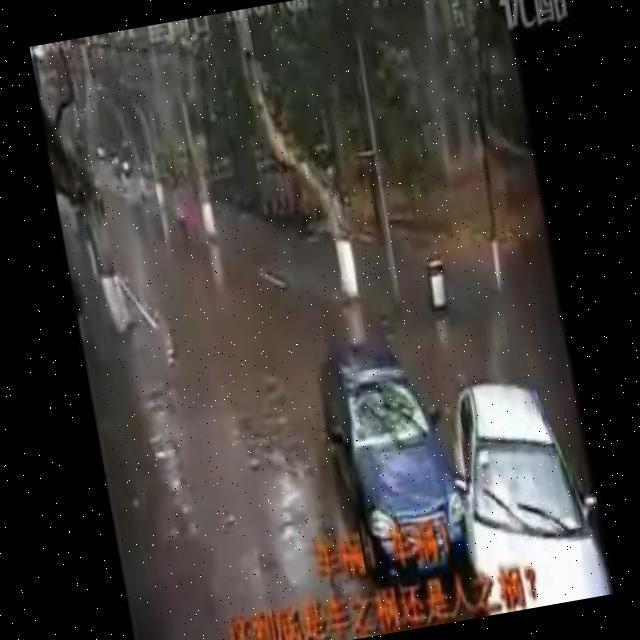accident: (301, 302, 611, 637)
